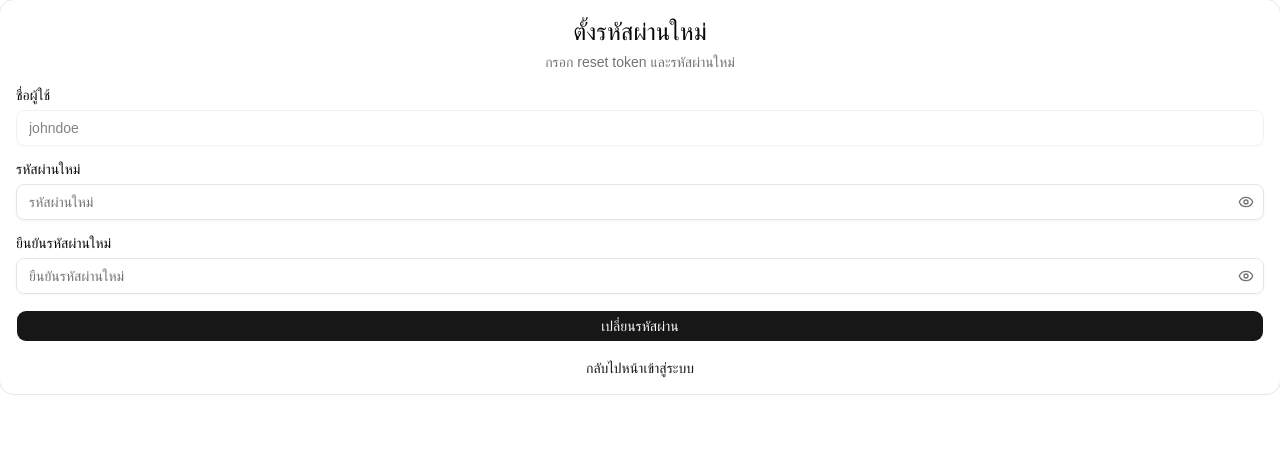
it: ResetPasswordPage › shows validation error when new password is empty
This screenshot has width=1280, height=468.
Click the button "เปลี่ยนรหัสผ่าน" at (640, 326), box [16,310,1264,342]
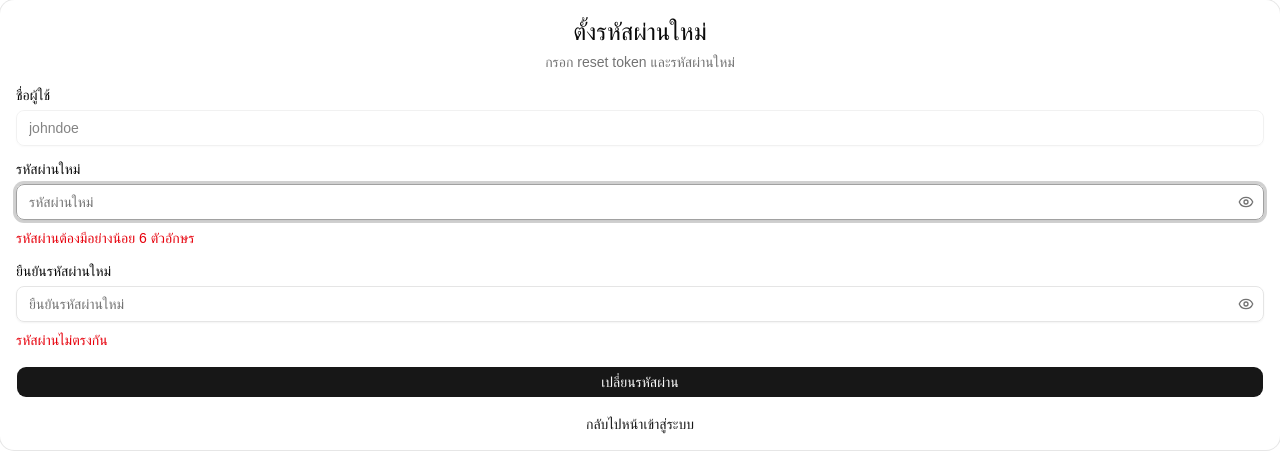
Expected: the text "รหัสผ่านต้องมีอย่างน้อย 6 ตัวอักษร" is shown, [16,230,194,246]
